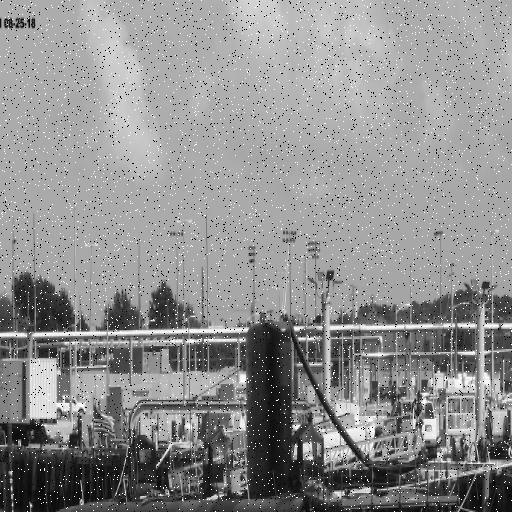submarine: (4, 322, 454, 512)
